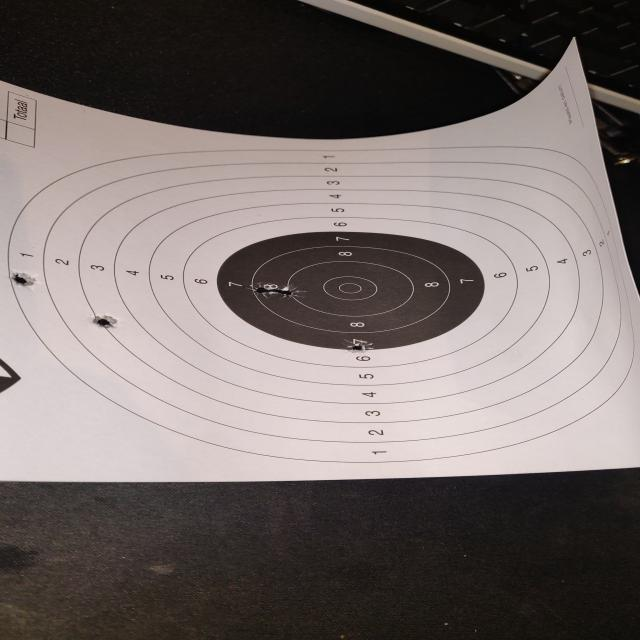1: (7, 269, 41, 290)
3: (89, 314, 122, 331)
7: (340, 339, 376, 355)
8: (247, 282, 278, 298)
9: (278, 283, 307, 301)
Target: (4, 146, 638, 464)
black_contour: (219, 228, 485, 350)
